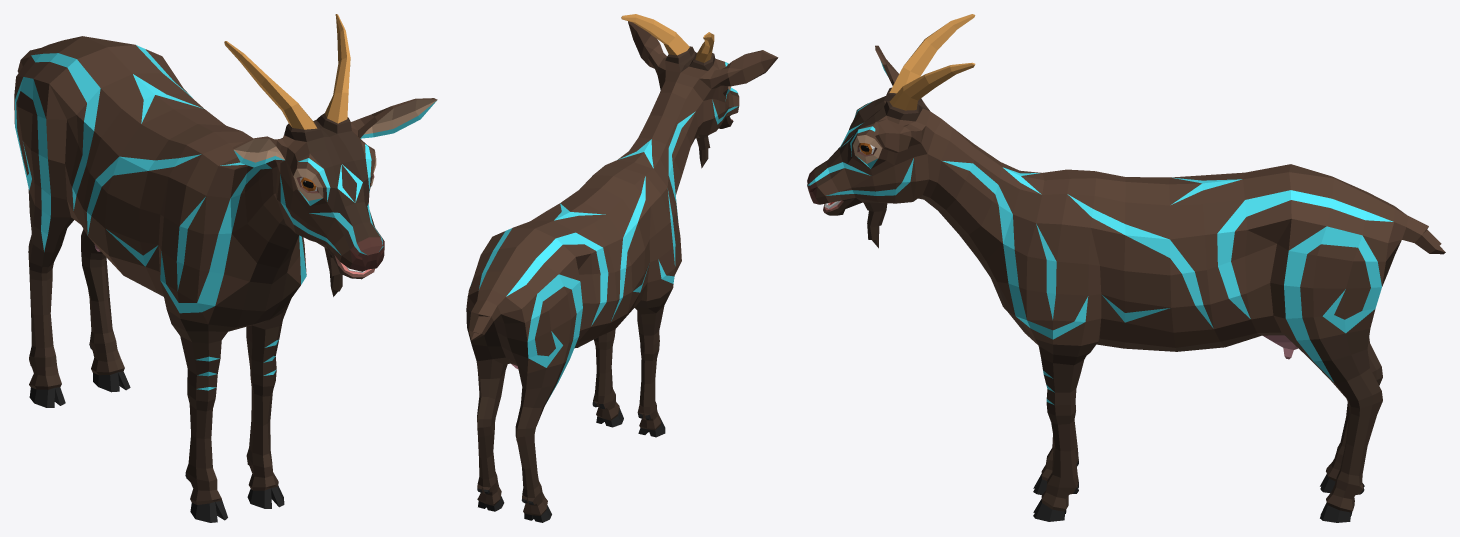
Rendered from LowPoly_Goat_Fem_9.obj.
The picture shows the model from 3 angles, left to right: view 1: azimuth 30°, elevation 25°; view 2: azimuth 150°, elevation 25°; view 3: azimuth 270°, elevation 25°; orthographic projection. The views are drawn at different scales.
Visible parts, largest first — view 1: Goat_Fem_9_Cube.008; view 2: Goat_Fem_9_Cube.008; view 3: Goat_Fem_9_Cube.008.
Boxes of the visible parts, x1,y1,x2,y2 form: Goat_Fem_9_Cube.008: (14,14,437,522); Goat_Fem_9_Cube.008: (466,14,778,522); Goat_Fem_9_Cube.008: (807,14,1445,522).
Size of the model in its own units: 0.3947 by 0.9443 by 1.18.
